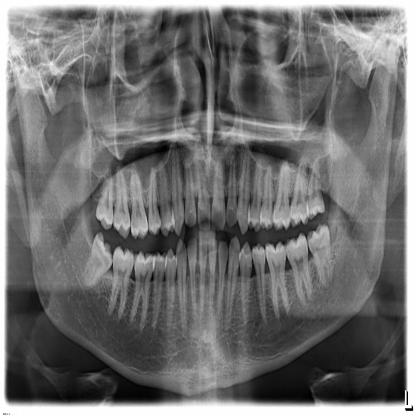canine: (225, 234, 242, 332), (238, 139, 251, 237), (170, 145, 184, 234), (176, 237, 187, 334)
central incisor: (194, 144, 211, 230), (211, 151, 226, 230), (199, 234, 209, 315), (208, 235, 218, 313)
lateral incisor: (184, 149, 197, 228), (187, 239, 198, 324), (218, 240, 229, 320), (226, 151, 237, 227)
mandible: (13, 44, 399, 394)
maxilla: (89, 129, 331, 249)
molar: (129, 251, 157, 333), (285, 234, 312, 306), (108, 246, 133, 320), (266, 241, 289, 320), (307, 223, 333, 292), (82, 231, 112, 290), (129, 166, 149, 240), (290, 154, 310, 228), (272, 160, 292, 230), (113, 166, 131, 240), (306, 156, 326, 222), (96, 172, 113, 228)
premolar: (156, 161, 176, 237), (238, 240, 253, 329), (164, 246, 179, 334), (152, 252, 168, 331), (252, 243, 267, 322), (248, 157, 263, 234), (147, 166, 161, 235), (260, 164, 273, 230)
